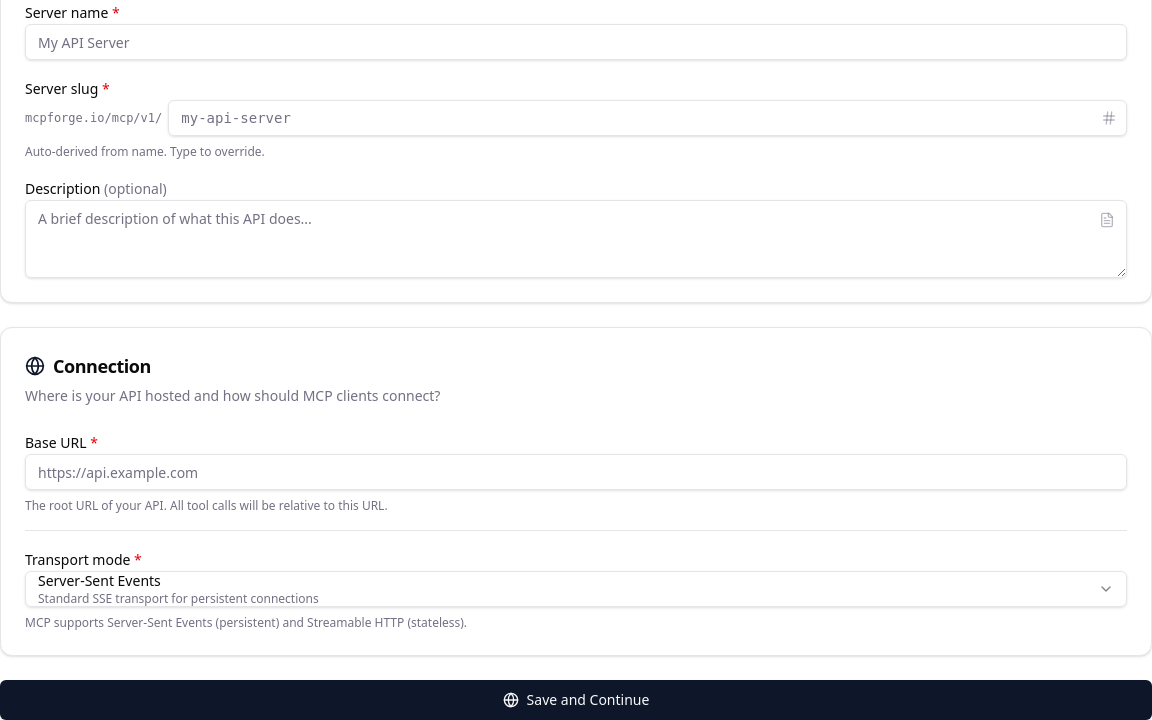
Scenario: ServerConfigForm › shows validation errors for empty required fields
The image size is (1152, 720).
(page scrolled)
Click the button "Save and Continue" at (576, 700), box [0,680,1151,719]
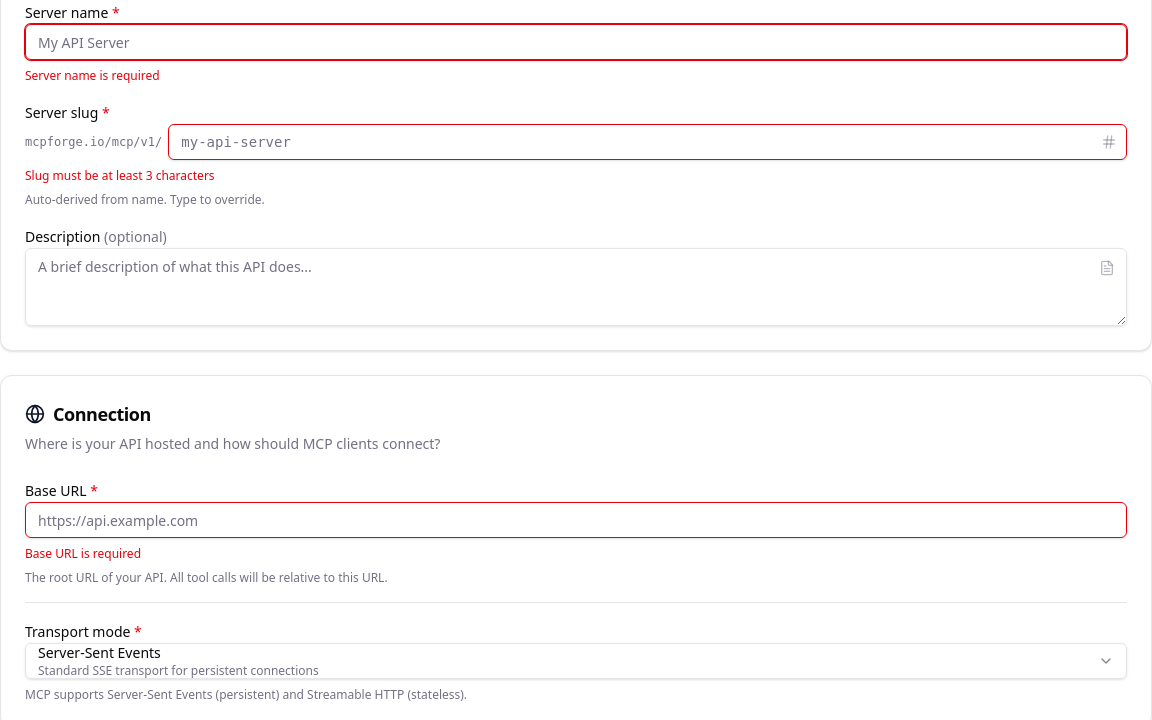
Result: the text "Server name is required" is shown at [25,67,160,84]
Result: the text "Base URL is required" is shown at [25,545,141,562]
